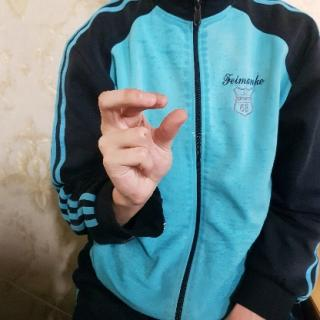DHELL: (93, 83, 189, 215)
